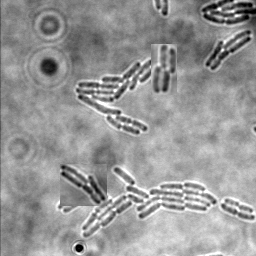Dividing: (219, 204, 255, 222), (223, 199, 253, 215)
Microcolony: (57, 167, 216, 238), (75, 59, 169, 136), (204, 30, 251, 72), (60, 164, 107, 206), (200, 1, 255, 26), (151, 44, 177, 95)
